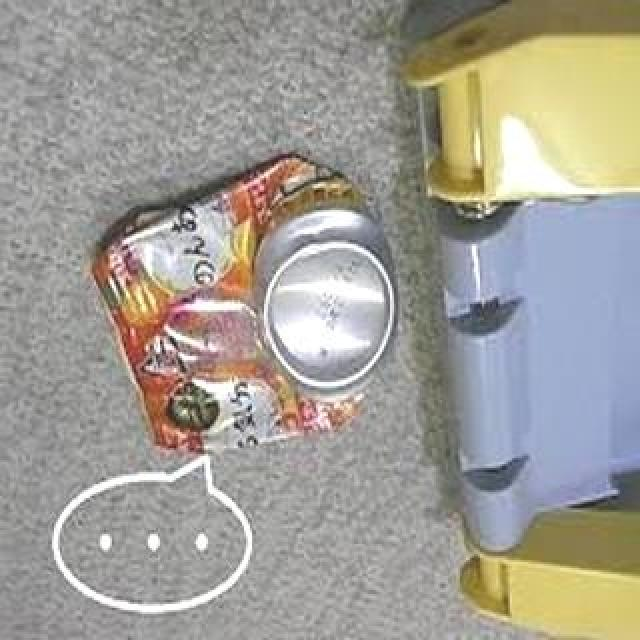Can: (106, 149, 404, 457)
